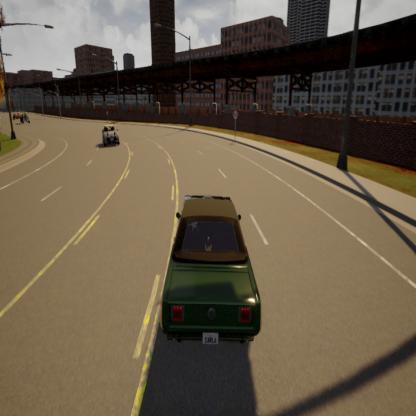Cars: (151, 177, 265, 364), (99, 122, 122, 148), (20, 111, 31, 127), (13, 111, 22, 120)
